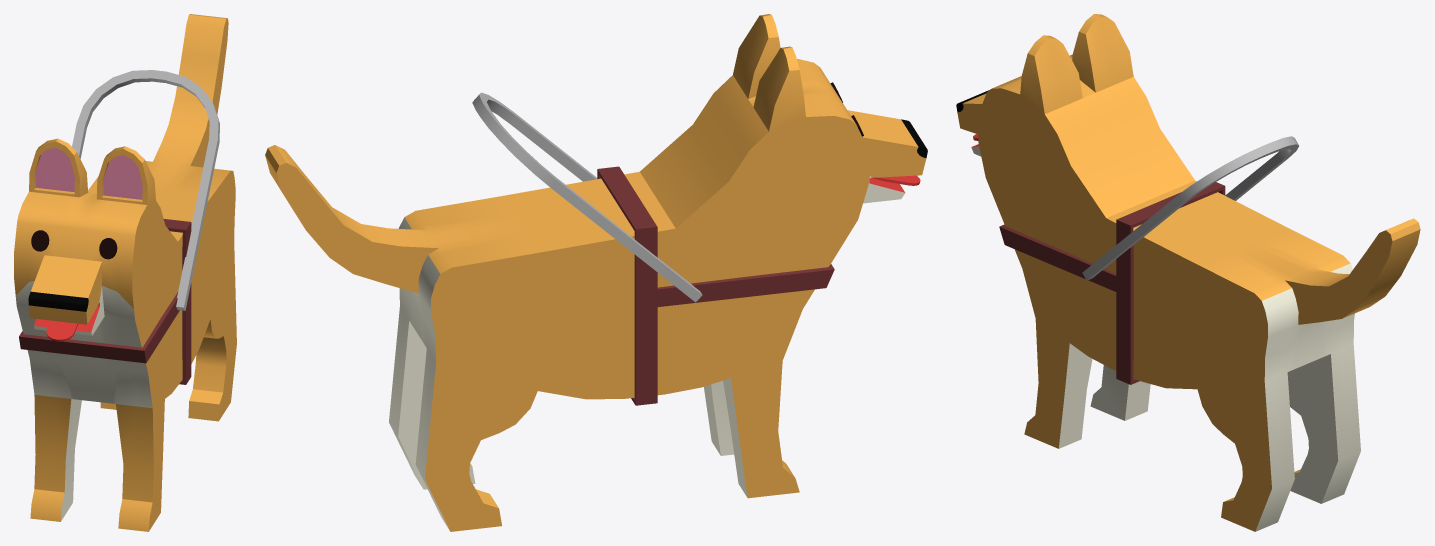
The model's file is Guide_Dog.gltf.
The picture shows the model from 3 angles, left to right: view 1: azimuth 30°, elevation 25°; view 2: azimuth 150°, elevation 25°; view 3: azimuth 270°, elevation 25°; orthographic projection. The views are drawn at different scales.
Parts seen in each view (by area): view 1: Plane.001, Plane.109, Cube.6170, Circle.011, Cube.001; view 2: Plane.001, Cube.6170, Plane.109; view 3: Plane.001, Cube.6170, Plane.109.
Boxes of the visible parts, box(x1,y1,x2,y2) form: Plane.001: box(14, 14, 236, 531); Plane.109: box(72, 70, 219, 310); Cube.6170: box(19, 219, 191, 384); Circle.011: box(31, 230, 117, 259); Cube.001: box(46, 320, 78, 341); Plane.001: box(265, 14, 927, 531); Cube.6170: box(597, 166, 834, 405); Plane.109: box(472, 92, 702, 302); Plane.001: box(956, 14, 1420, 531); Cube.6170: box(999, 182, 1225, 384); Plane.109: box(1082, 136, 1298, 280).
Bounding box in the file's own units: 1.72 × 1.59 × 1.72.
2 materials, 1 textured.
